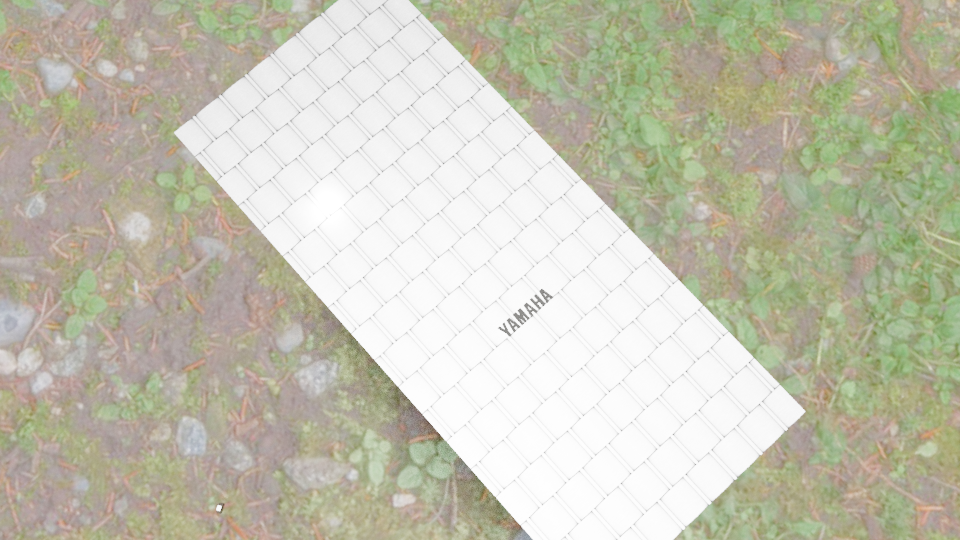yamaha_letters: (496, 287, 554, 337)
